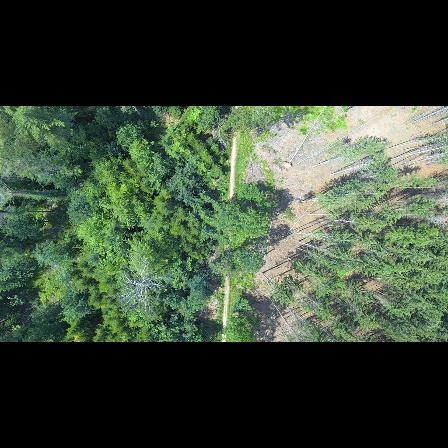Dead: (112, 255, 164, 317)
